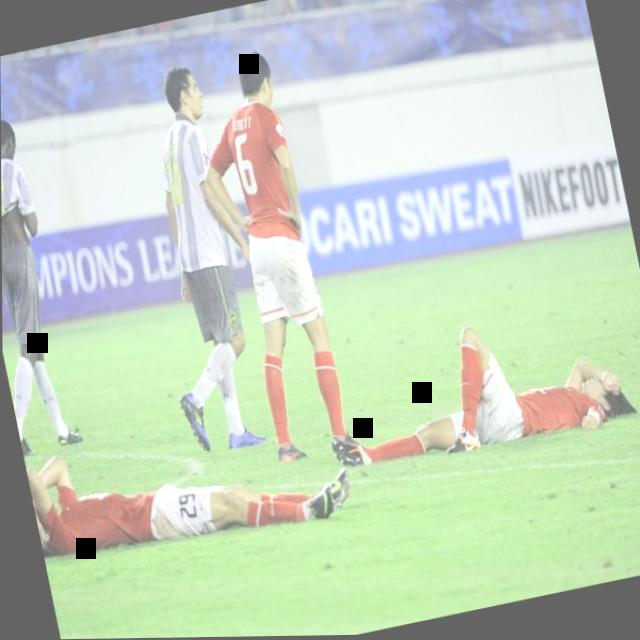Fall-Detected: (22, 388, 353, 580)
